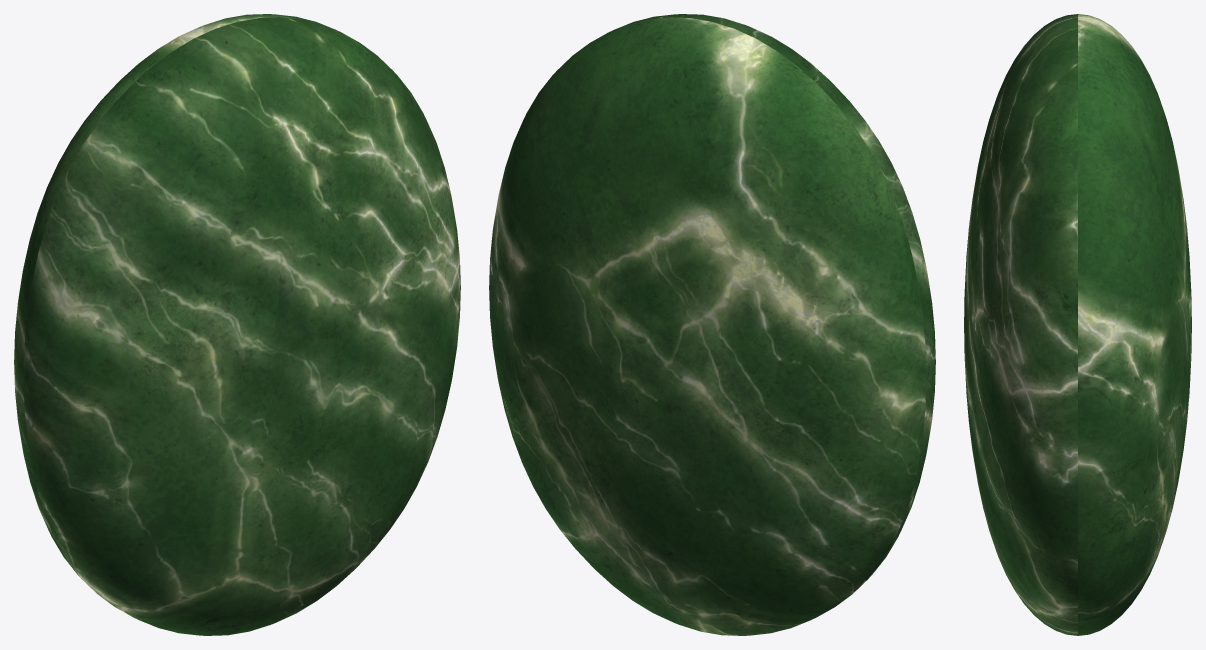
Rendered from Jasper (Jade).fbx.
3 renders of one model, left to right at view 1: azimuth 30°, elevation 25°; view 2: azimuth 150°, elevation 25°; view 3: azimuth 270°, elevation 25°, orthographic. The views are drawn at different scales.
Parts seen in each view (by area): view 1: Jasper (Jade); view 2: Jasper (Jade); view 3: Jasper (Jade).
Boxes of the visible parts, bbox=[...] form: Jasper (Jade): bbox=[14, 14, 460, 635]; Jasper (Jade): bbox=[489, 14, 935, 635]; Jasper (Jade): bbox=[964, 14, 1191, 635].
Size of the model in its own units: 0.1398 by 0.1893 by 0.0666.
Materials: 1 (1 with a texture image).
